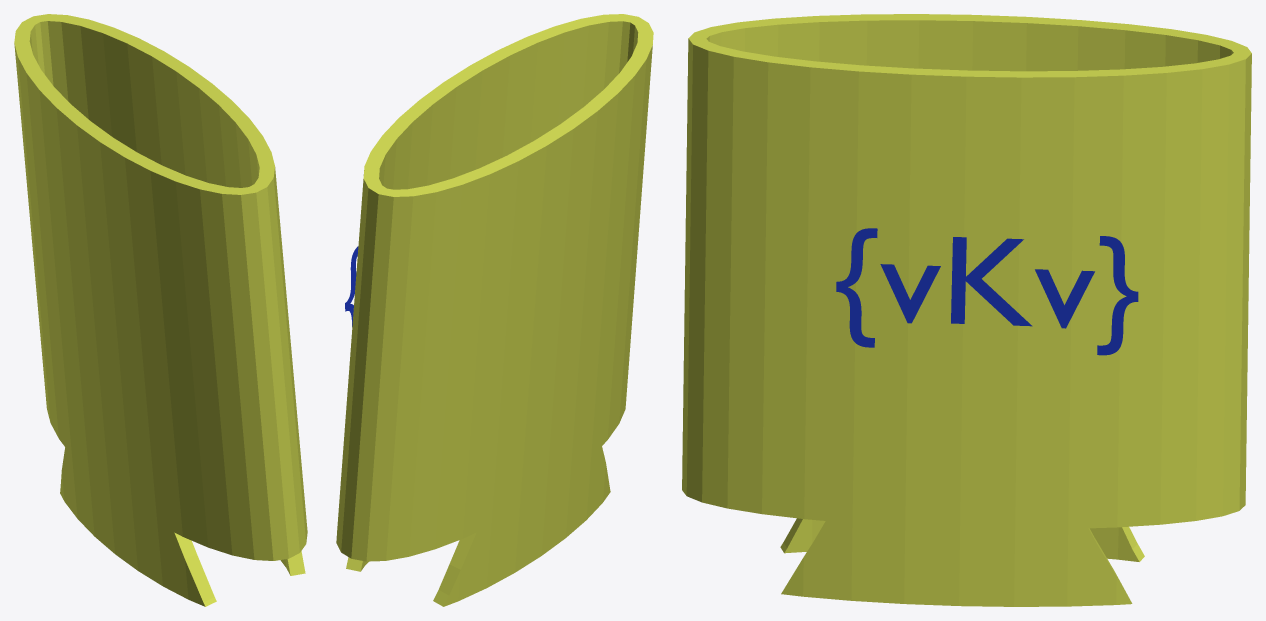
File: Koozie2.fbx
The picture shows the model from 3 angles, left to right: view 1: azimuth 30°, elevation 25°; view 2: azimuth 150°, elevation 25°; view 3: azimuth 270°, elevation 25°; orthographic projection. The views are drawn at different scales.
Parts seen in each view (by area): view 1: Cylinder; view 2: Cylinder; view 3: Cylinder, Text.
Part boxes in pixels (left/top/right/bottom): Cylinder: left=14, top=14, right=307, bottom=606; Cylinder: left=336, top=14, right=653, bottom=606; Cylinder: left=682, top=14, right=1251, bottom=606; Text: left=836, top=228, right=1138, bottom=355.
Bounding box in the file's own units: 161 × 410 × 404.
